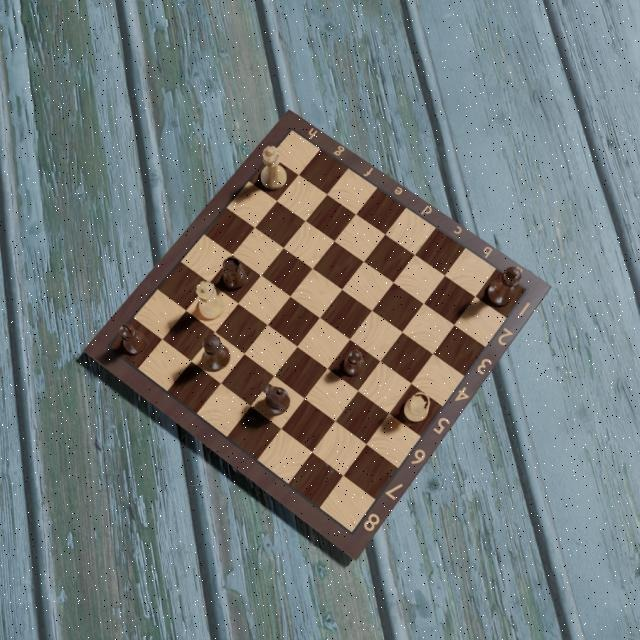black-bishop: (118, 322, 150, 358)
black-king: (487, 264, 523, 311)
black-knight: (261, 382, 292, 418)
black-pawn: (341, 348, 367, 378)
black-queen: (199, 334, 233, 373)
black-rook: (221, 252, 246, 292)
white-king: (260, 143, 287, 189)
white-queen: (194, 279, 228, 322)
white-rook: (402, 390, 432, 426)
